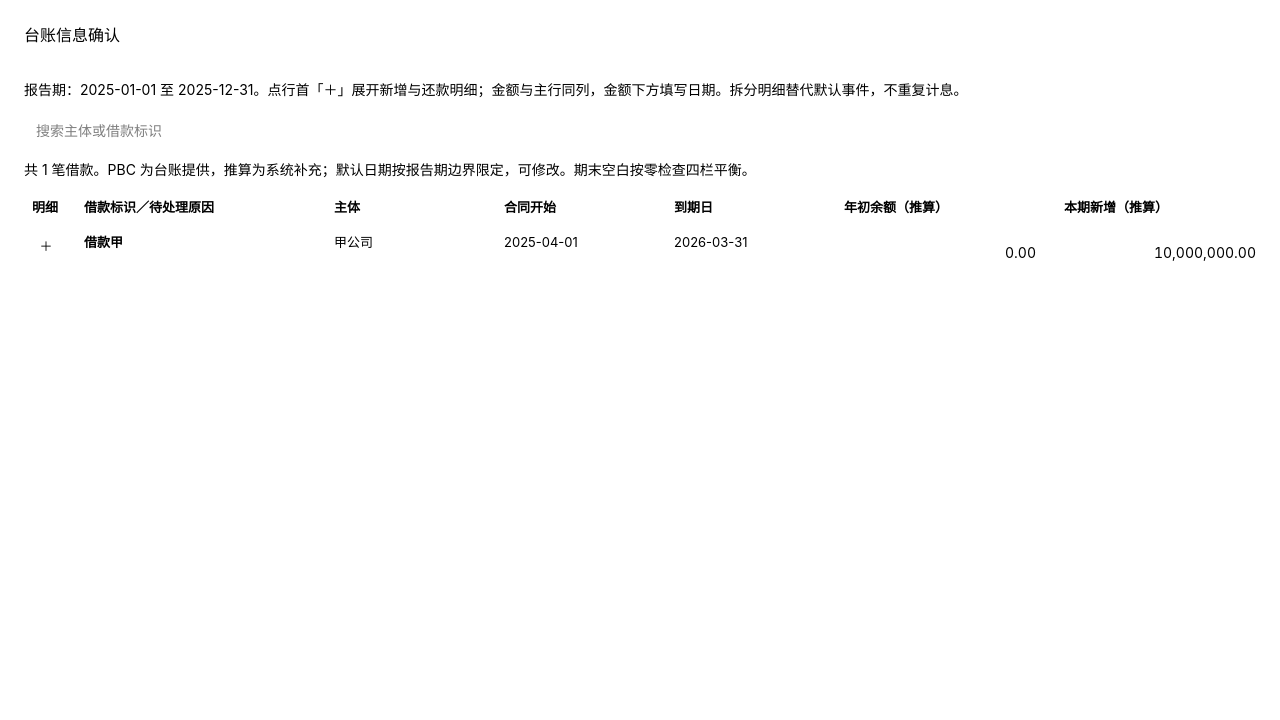
台账信息确认 › 行首＋展开明细，既有事件按行并排成四格
Step 1. Click the button named "展开借款甲明细" → (46, 247), box [32,233,60,261]
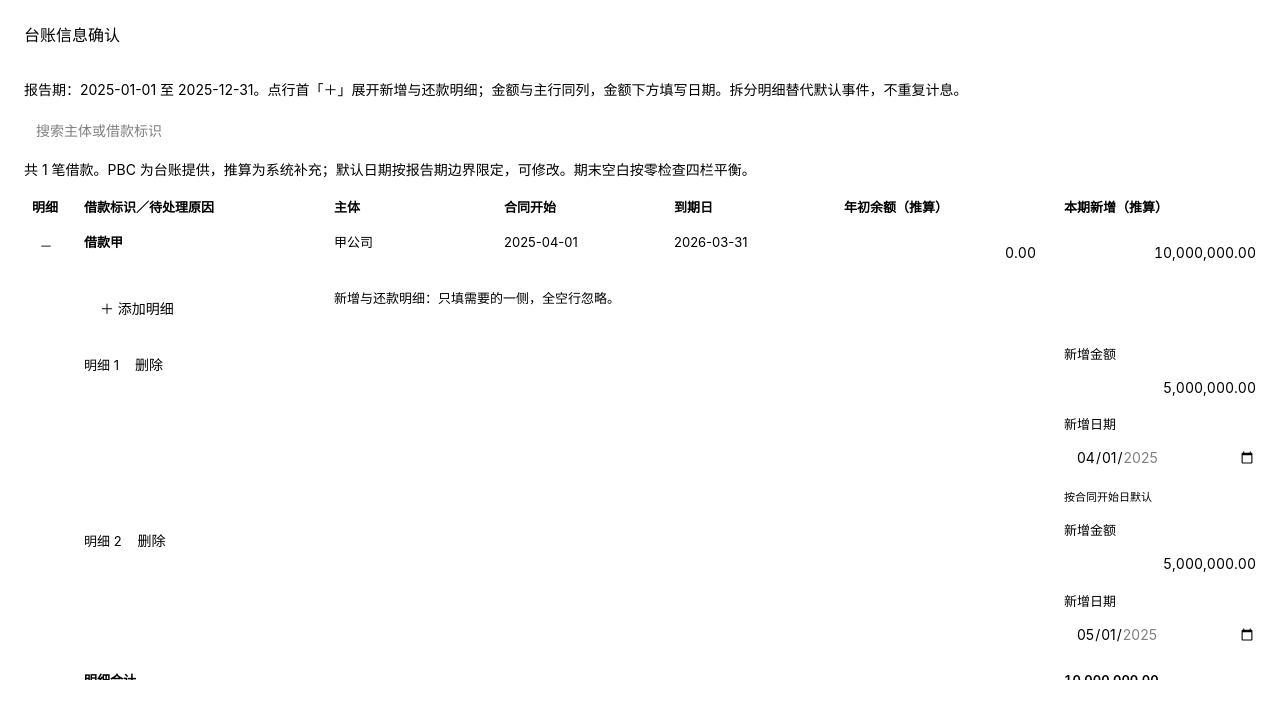
Check: the date field named "借款甲新增日期1" holds "2025-04-01", box [1064,438,1256,478]
Check: the date field named "借款甲新增日期2" holds "2025-05-01", box [1064,614,1256,654]
Check: the text "按合同开始日默认" is shown, box [1064,490,1152,504]
